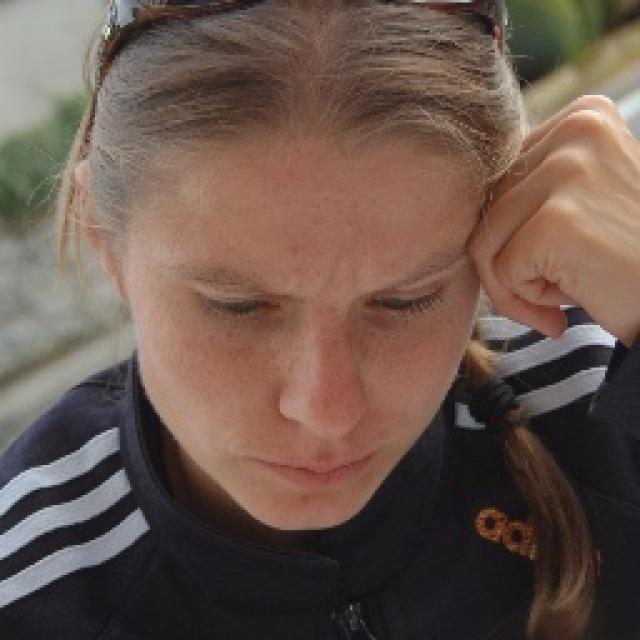eye: (190, 283, 282, 325), (367, 285, 455, 316)
nose: (290, 427, 362, 456)
wholeear: (73, 160, 124, 298)
